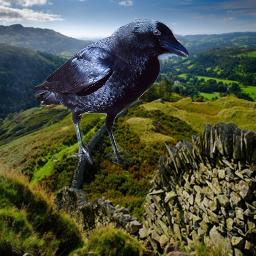Crow: (35, 19, 190, 168)
